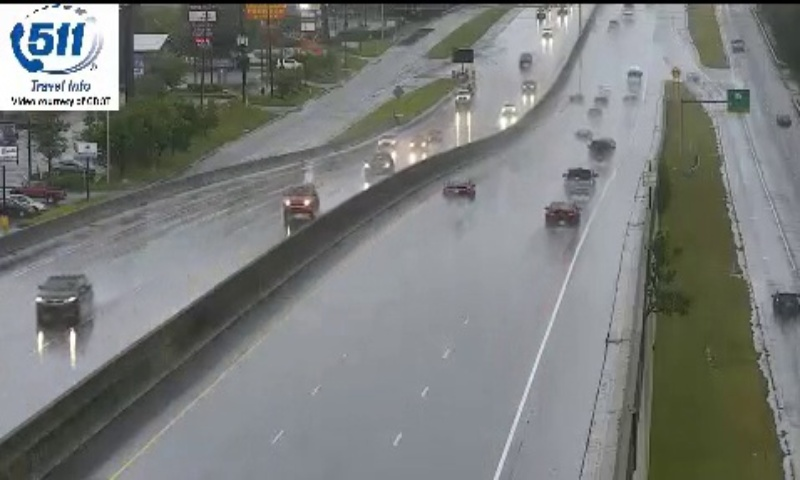car: (545, 201, 579, 230), (564, 167, 594, 194), (443, 177, 475, 201)
